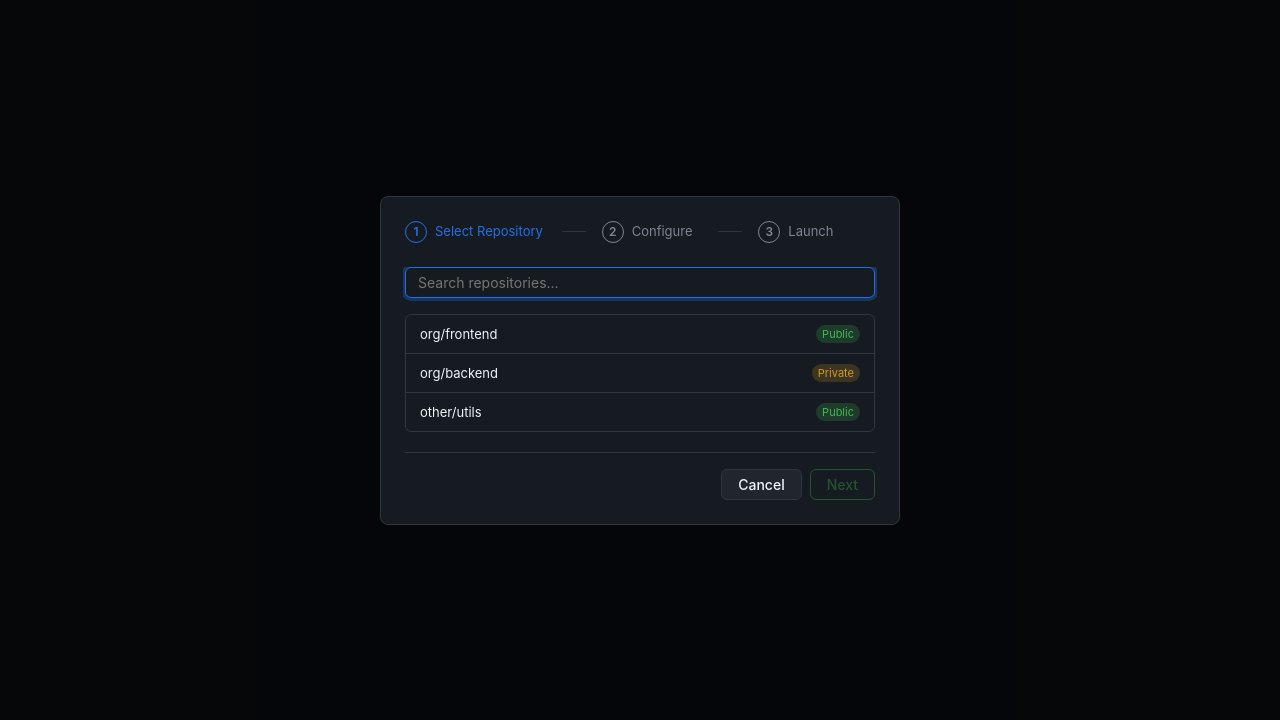
Test case: NewRunnerWizard › disables Next on step 2 when name is empty (single mode)
Click the text "org/frontend" at [459, 334], box [420,326,498,342]
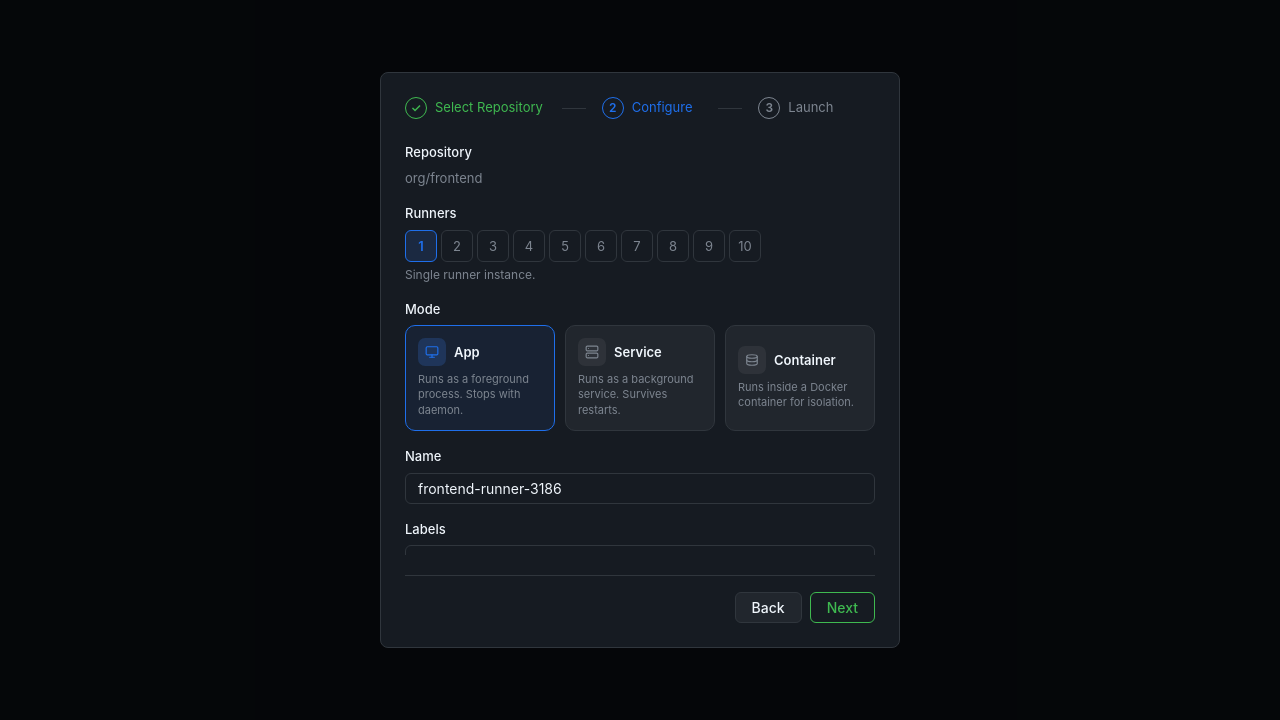
Clear the auto-generated name
Clear the field labelled "Name" at [640, 488], box [405,473,875,504]
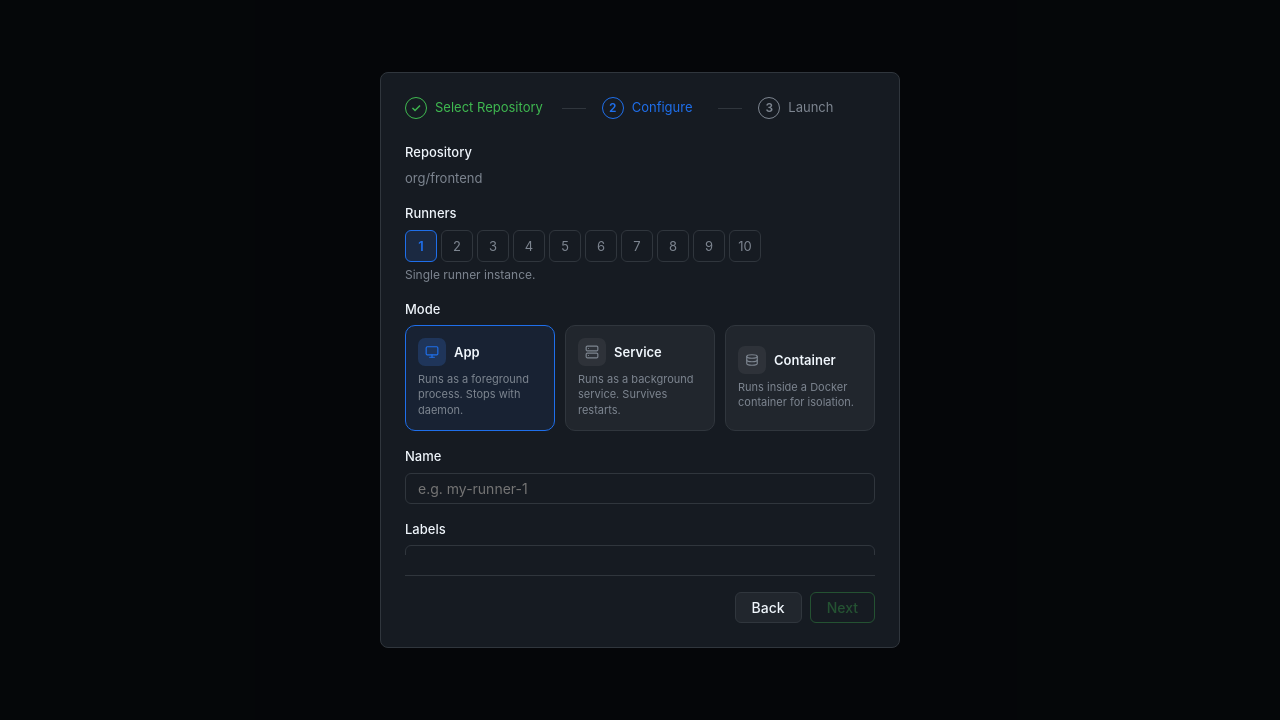
expect the button "Next" is disabled: met, box [810,592,875,623]
